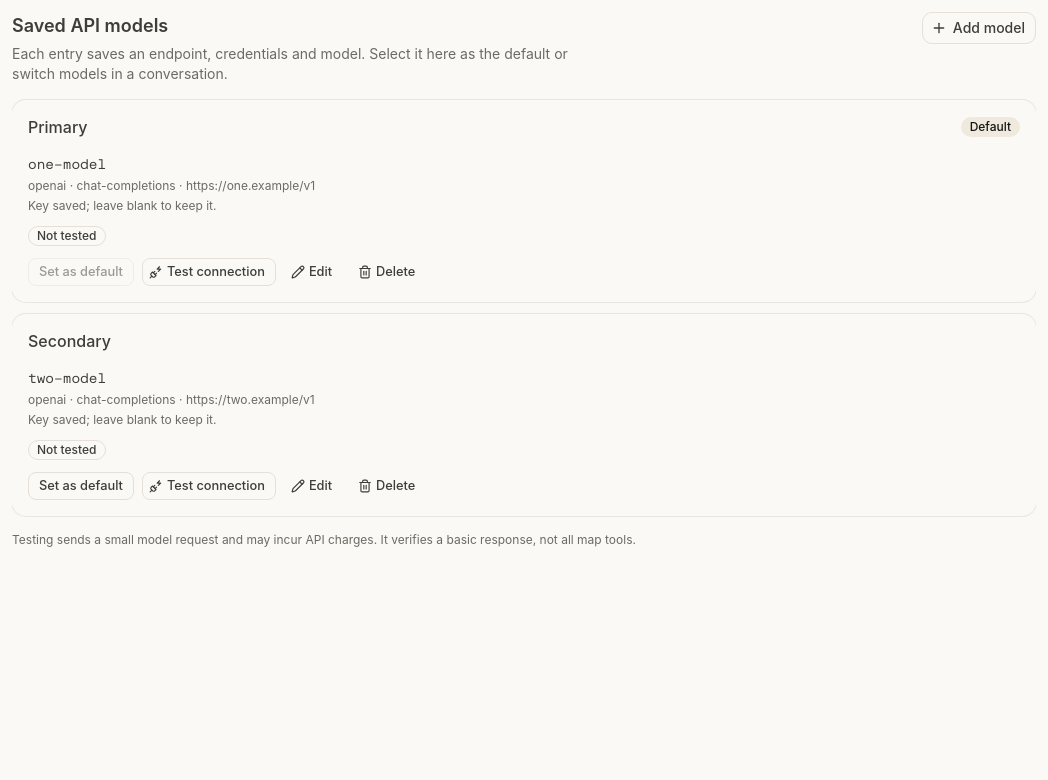
Scenario: API profile settings › aborts a pending test when settings unmount and ignores the late result
What coordinates should you click on to do the following:
click the button "Test connection" below "https://one.example/v1"
I would click on:
 (209, 272)
Its box is [142,258,276,286].
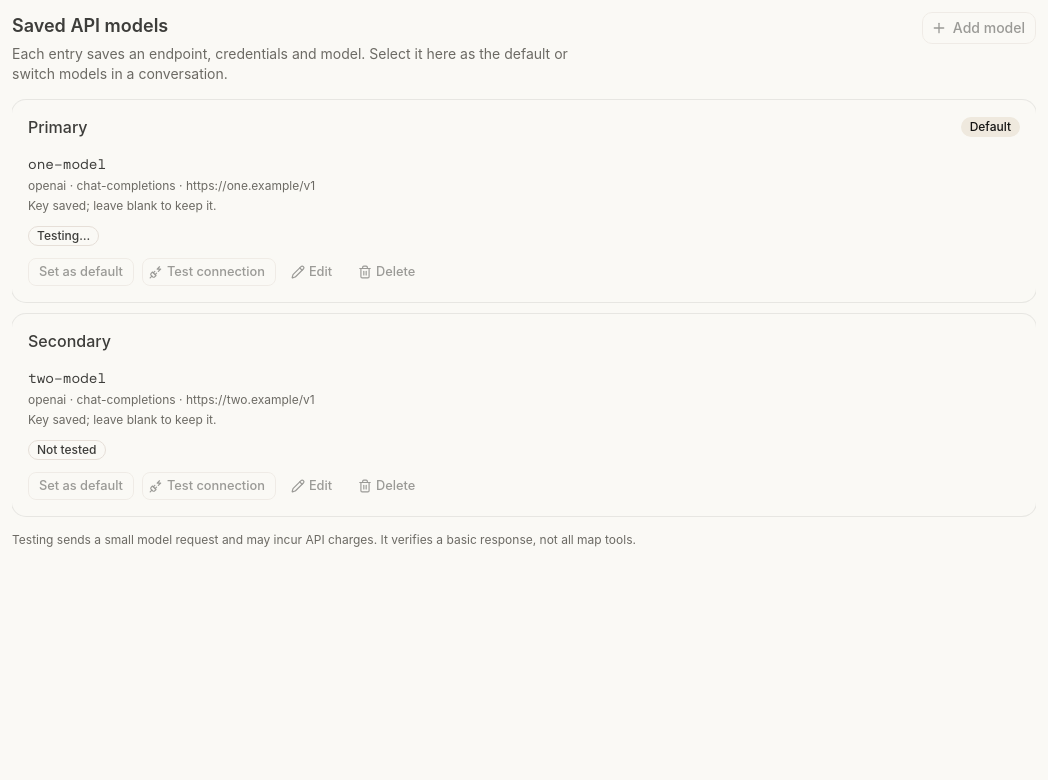
expect the text "Testing…" is shown: met, box [28,226,99,246]
